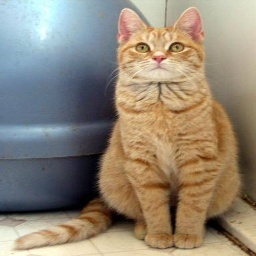cat: (26, 7, 237, 246)
